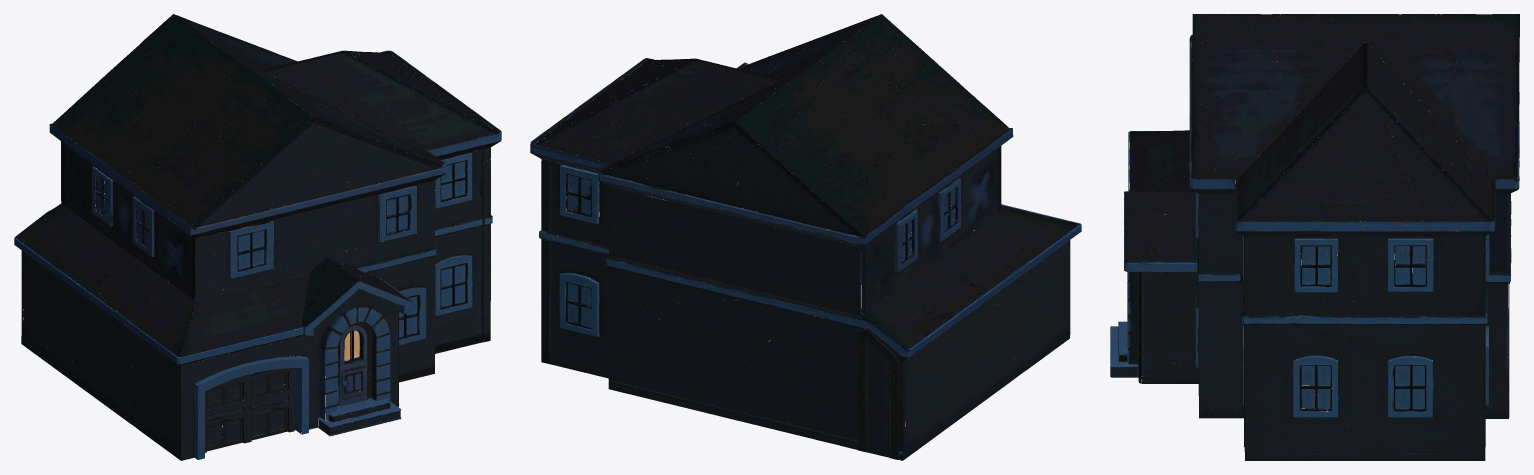
Rendered from house-main-optimized.glb.
The picture shows the model from 3 angles, left to right: view 1: azimuth 30°, elevation 25°; view 2: azimuth 150°, elevation 25°; view 3: azimuth 270°, elevation 25°; orthographic projection. The views are drawn at different scales.
Visible parts, largest first — view 1: tmp6jshihzv.obj; view 2: tmp6jshihzv.obj; view 3: tmp6jshihzv.obj.
Part boxes in pixels (x1,y1,x2,y2): tmp6jshihzv.obj: (14,14,501,460); tmp6jshihzv.obj: (530,14,1081,460); tmp6jshihzv.obj: (1110,14,1519,460).
Size of the model in its own units: 1.36 by 1.02 by 1.13.
1 material, 1 textured.
